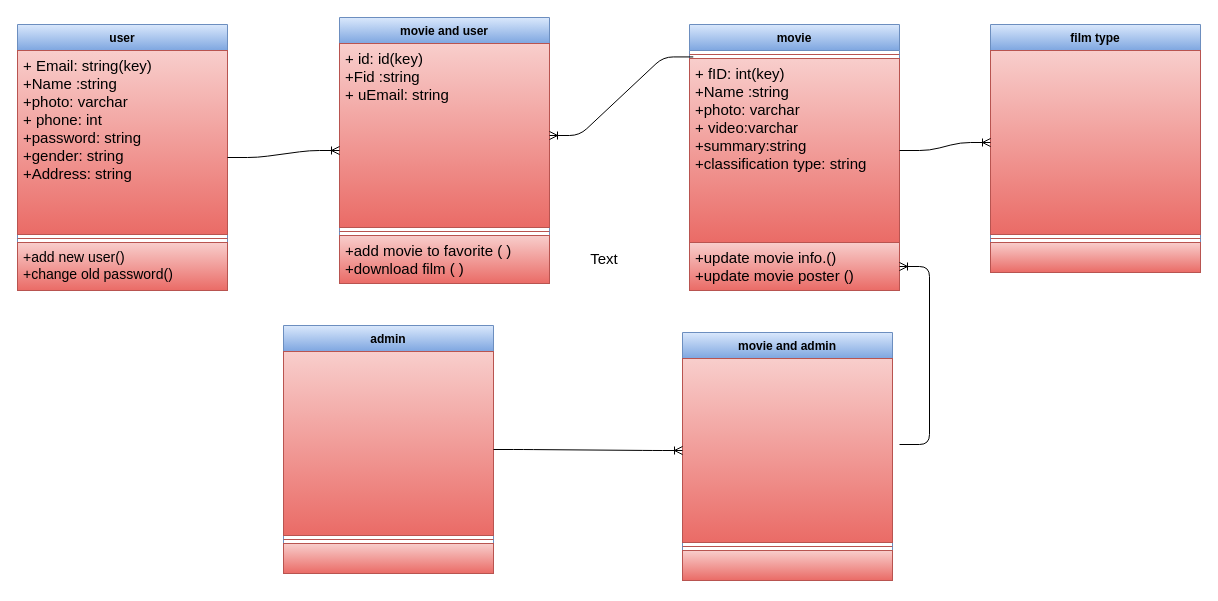
Image size: 1218x601. Some labels were removed from this diagram. Each missing label, with the centre of its shape:
+ classification films(): (x=1095, y=257)
+ delete film(): (x=388, y=558)
+ Email: string(key) +Name :string +photo: varchar + password: string: (x=388, y=443)
+add new film (): (x=787, y=565)
+id; int(key) +Fid: int +aEmail:string: (x=787, y=450)
+id; int(key) +Name of type: string: (x=1095, y=142)
